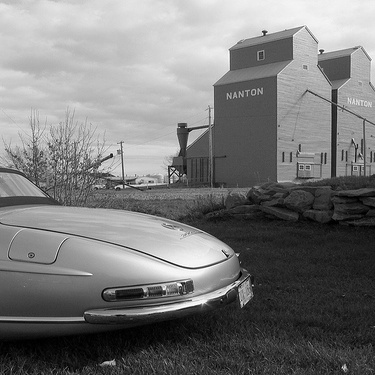car: (1, 158, 256, 346), (113, 176, 131, 191), (93, 173, 106, 193)
